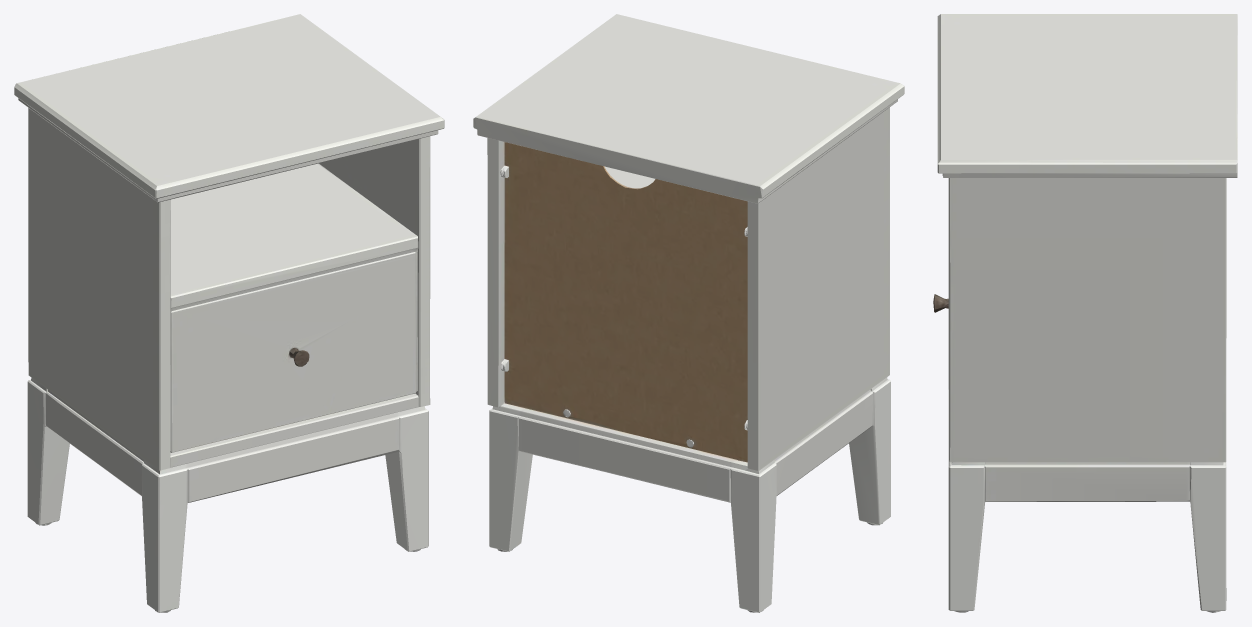
3 renders of one model, left to right at view 1: azimuth 30°, elevation 25°; view 2: azimuth 150°, elevation 25°; view 3: azimuth 270°, elevation 25°, orthographic. The views are drawn at different scales.
Visible parts, largest first — view 1: ProcessedMeshNode; view 2: ProcessedMeshNode; view 3: ProcessedMeshNode.
Part boxes in pixels (x1,y1,x2,y2): ProcessedMeshNode: (14,14,444,612); ProcessedMeshNode: (473,14,904,612); ProcessedMeshNode: (933,14,1237,612).
Size of the model in its own units: 0.4702 by 0.6752 by 0.4059.
1 material, 1 textured.
